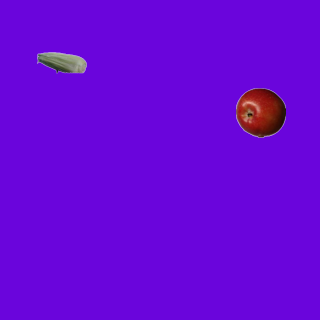Apple Braeburn: (235, 87, 285, 137)
Corn Husk: (36, 37, 86, 87)
